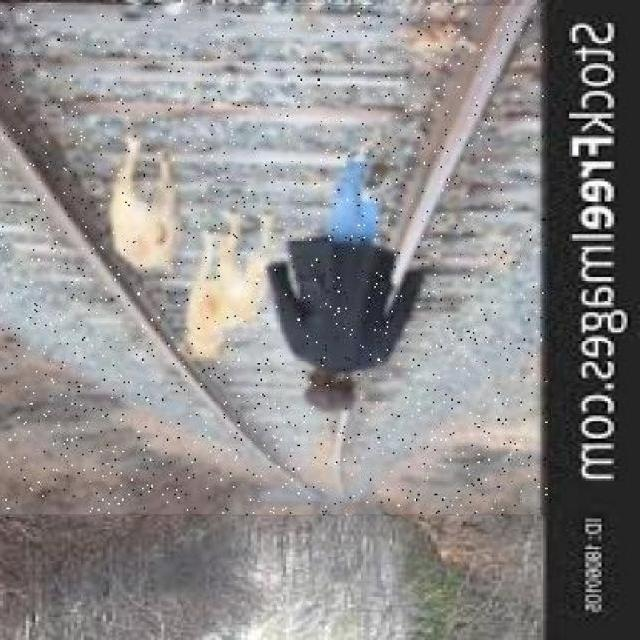rail: (2, 7, 548, 515)
